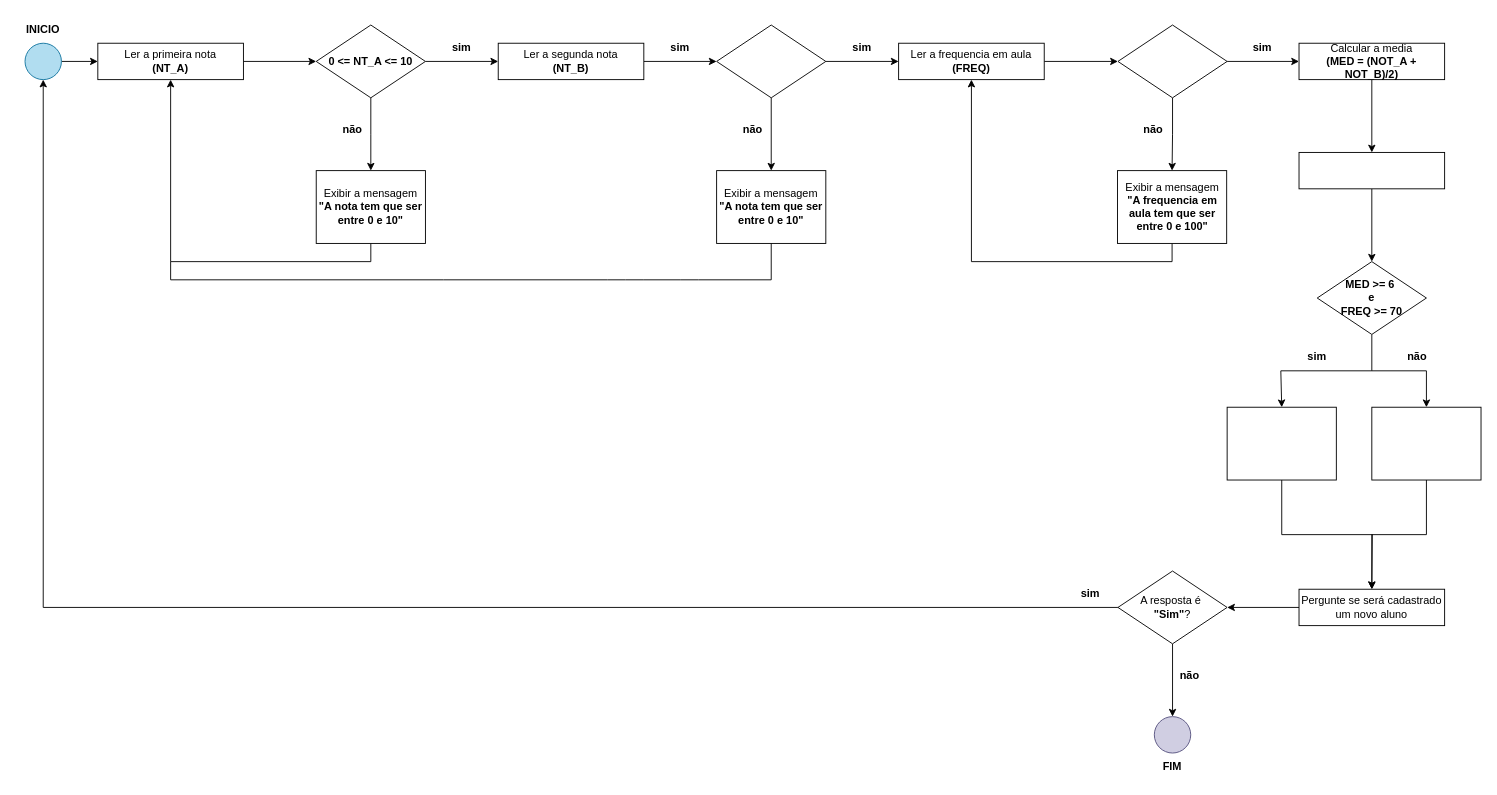
Image size: 1497x795. Some labels were removed from this diagram. Each missing label, with the centre of its shape:
0 <= FREQ <= 100: (1172,61)
0 <= NT_B <= 10: (771,61)
Exibir a media (MED): (1371,170)
Exibir a mensagem "Infelizmente, reprovado": (1426,443)
Exibir a mensagem "Parabéns, aprovado": (1281,443)
